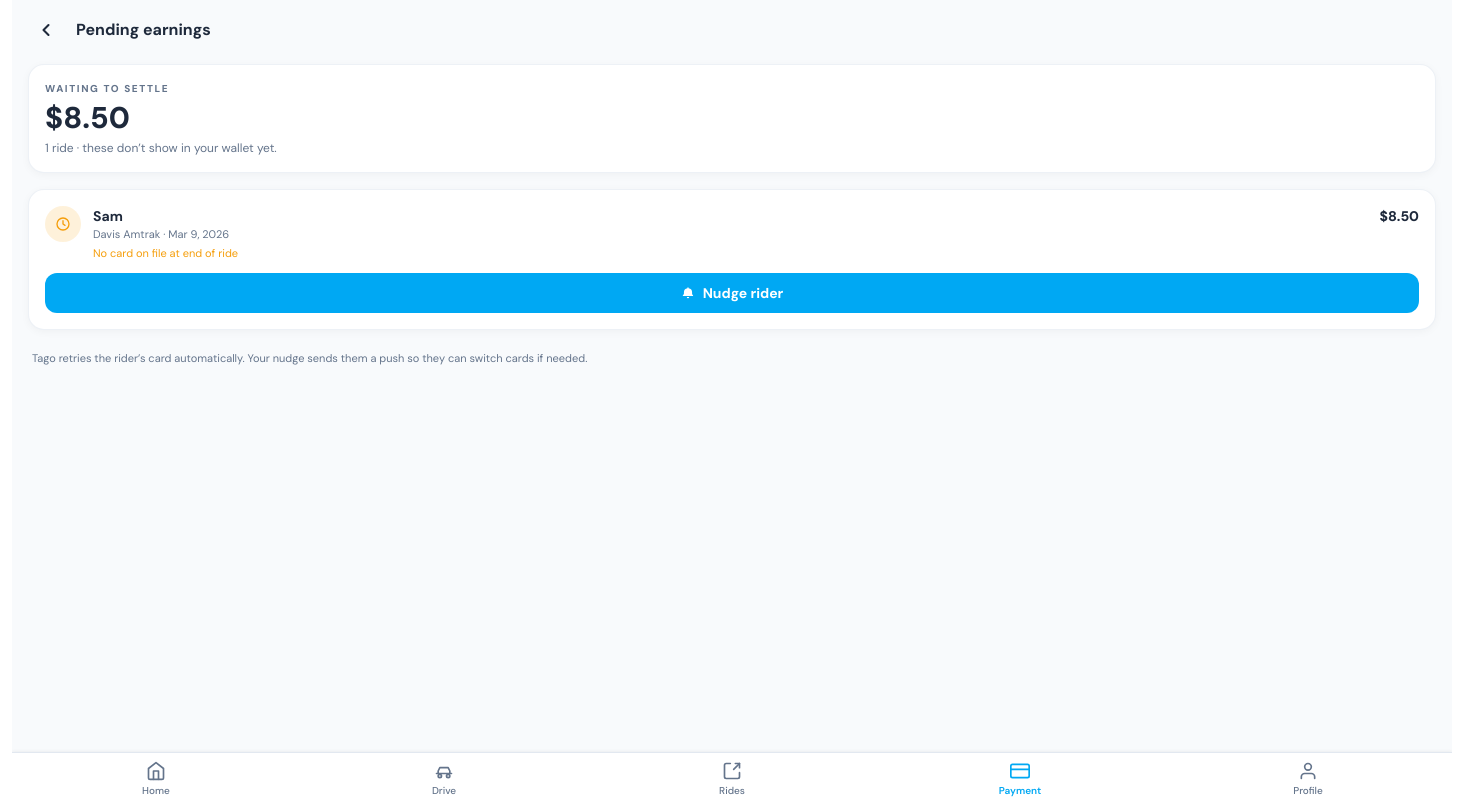
Test: PendingEarningsPage › Nudge POST success flips the button into cooldown
Click the button with test id "pending-earnings-nudge" at (732, 293), box [45,273,1419,313]
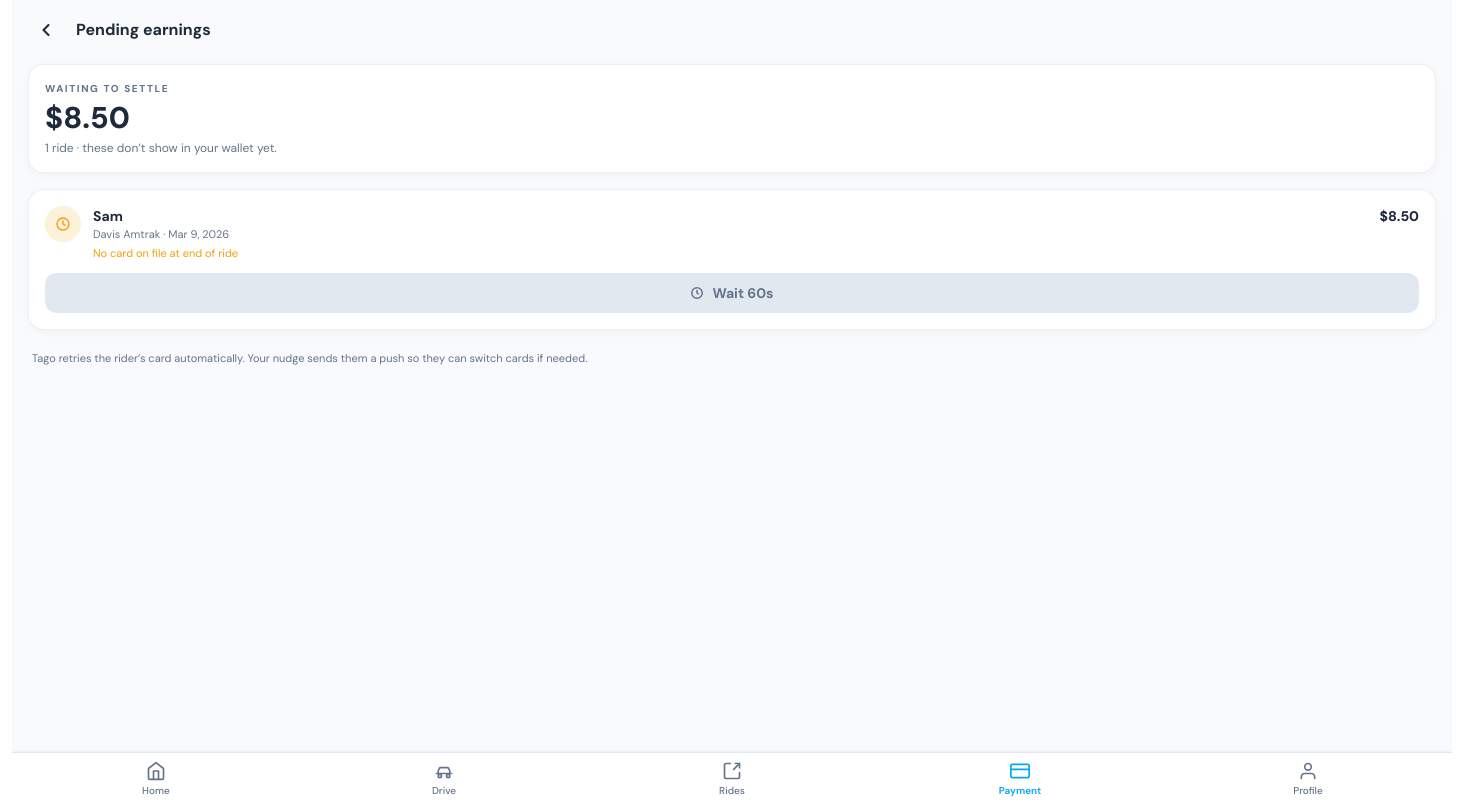
Result: the button with test id "pending-earnings-nudge" reads "Wait 60s" at [45,273,1419,313]
Result: the button with test id "pending-earnings-nudge" is disabled at [45,273,1419,313]
